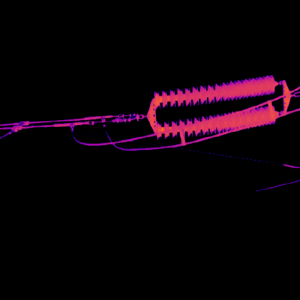insulator: (151, 73, 277, 138)
